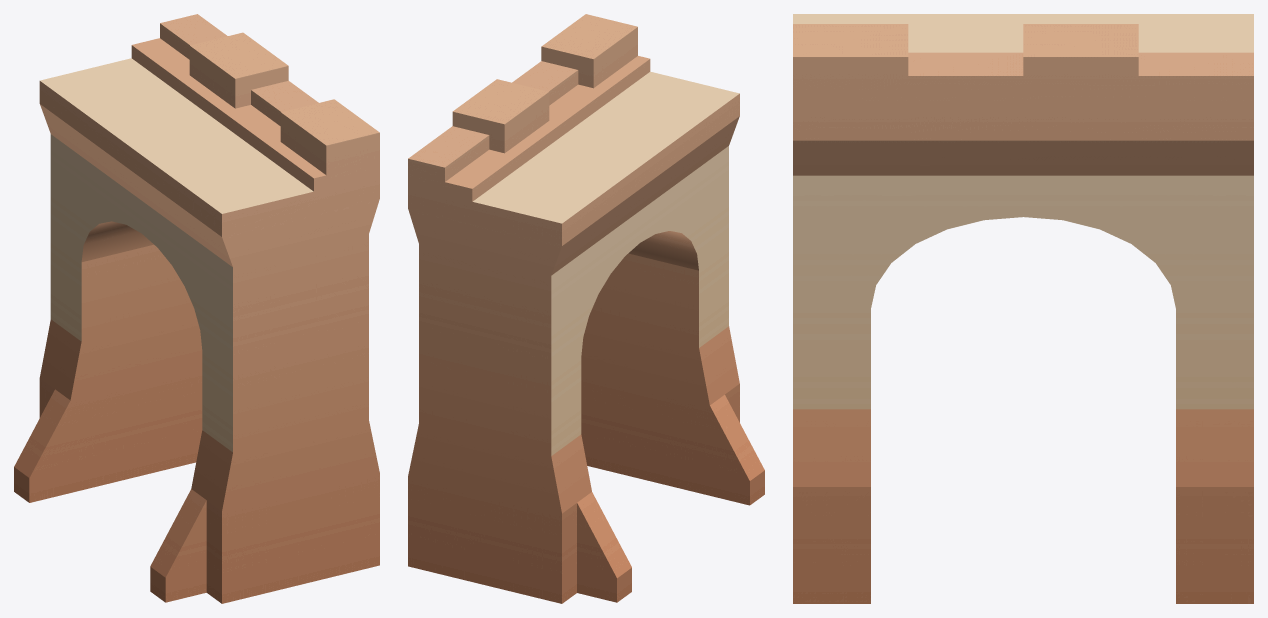
The model's file is wall-narrow-gate.glb.
The picture shows the model from 3 angles, left to right: view 1: azimuth 30°, elevation 25°; view 2: azimuth 150°, elevation 25°; view 3: azimuth 270°, elevation 25°; orthographic projection. The views are drawn at different scales.
Visible parts, largest first — view 1: wall-narrow-gate; view 2: wall-narrow-gate; view 3: wall-narrow-gate.
Part boxes in pixels (x1=…): wall-narrow-gate: x1=14, y1=14, x2=379, y2=603; wall-narrow-gate: x1=408, y1=14, x2=764, y2=603; wall-narrow-gate: x1=793, y1=14, x2=1253, y2=603.
Bounding box in the file's own units: 0.63 × 1.31 × 1.
1 material, 1 textured.
